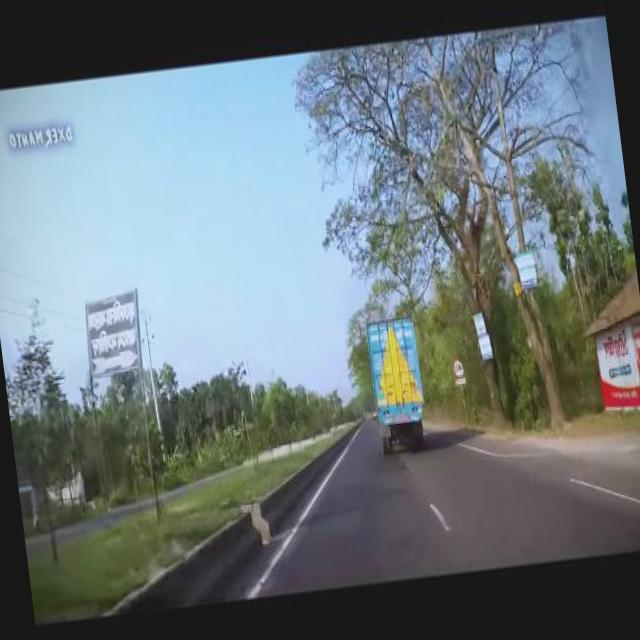truck: (364, 312, 434, 456)
